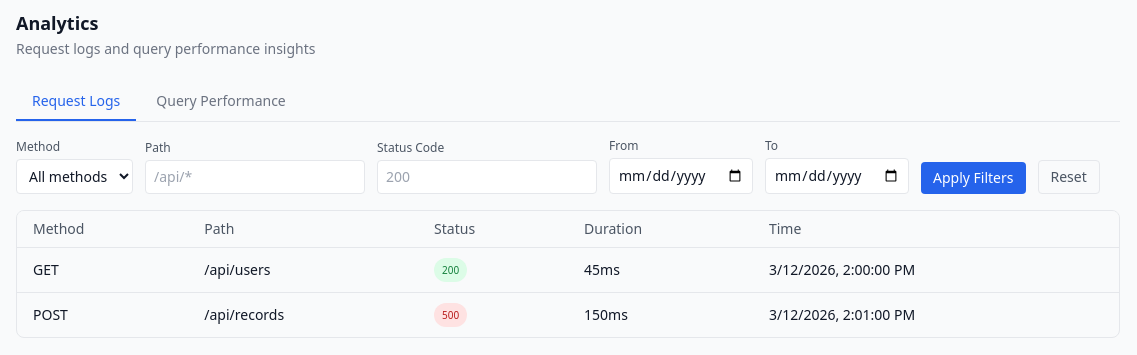
Analytics › switches to query performance tab
Expected: the text "/api/users" is shown, x1=188 y1=248 x2=418 y2=292
Click the button "Query Performance" at (221, 102), box x1=140 y1=83 x2=302 y2=121
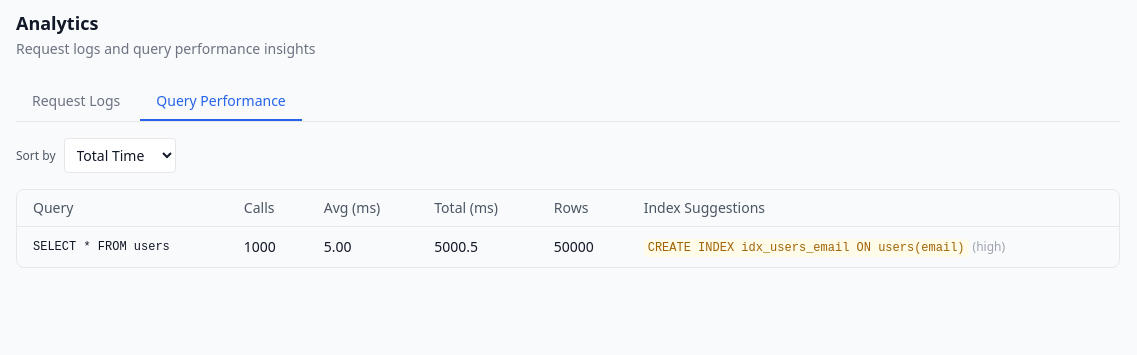
Expected: the text "SELECT * FROM users" is shown, x1=33 y1=240 x2=170 y2=254
